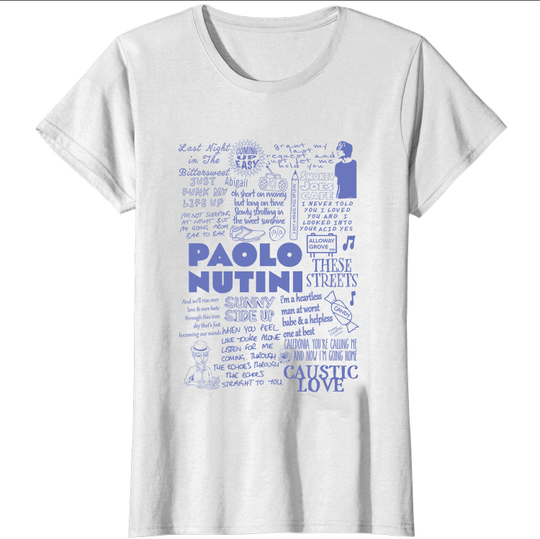design: (175, 135, 361, 395)
